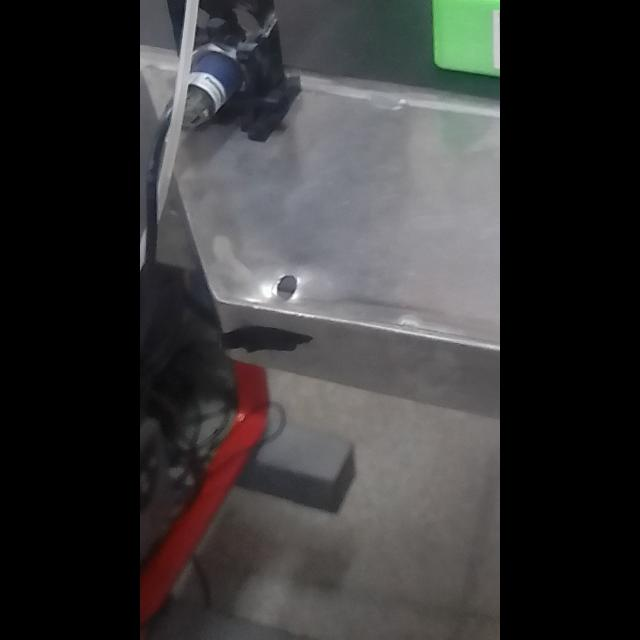greenBox: (424, 0, 500, 101)
